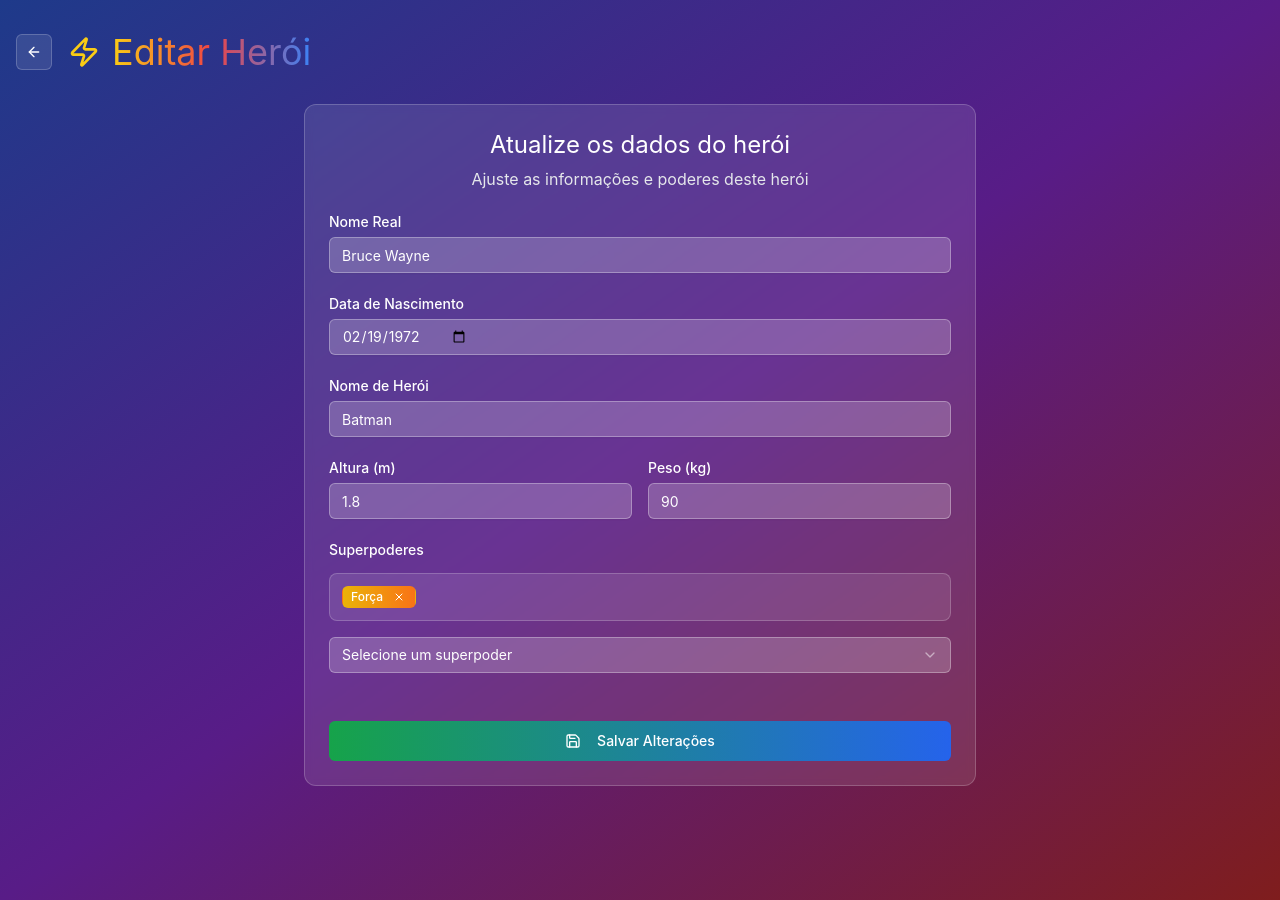
Scenario: HeroFormPage - edição › remove superpoder selecionado e desabilita salvar
Check: the field showing "Bruce Wayne" is shown, box left=329, top=237, right=951, bottom=273
Check: the button "Salvar Alterações" is enabled, box left=329, top=721, right=951, bottom=761
What coordinates should you click on to do the following:
click the button without text next to "Força"
I would click on:
 (399, 597)
Its box is left=391, top=589, right=407, bottom=605.
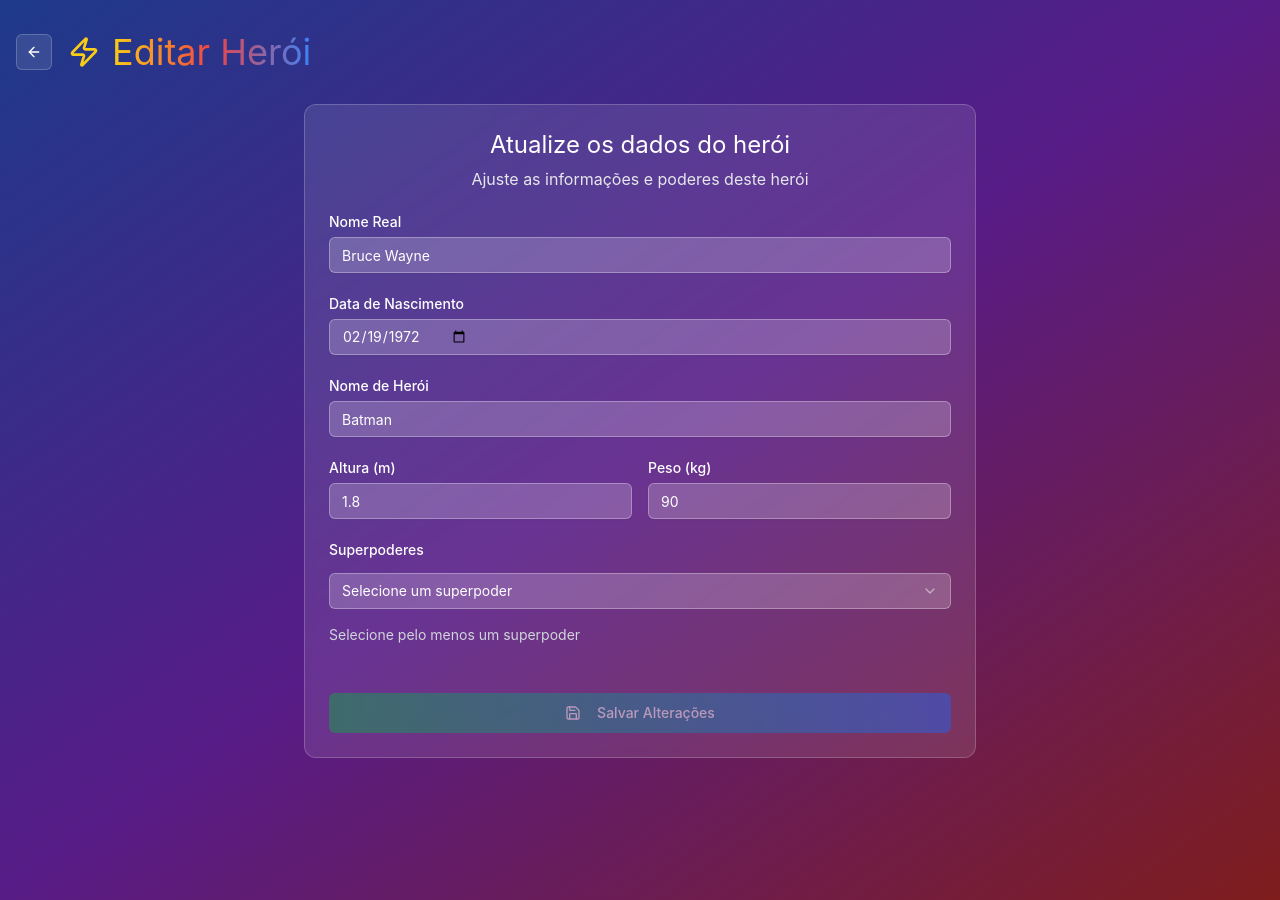
Check: the button "Salvar Alterações" is disabled, box left=329, top=693, right=951, bottom=733
